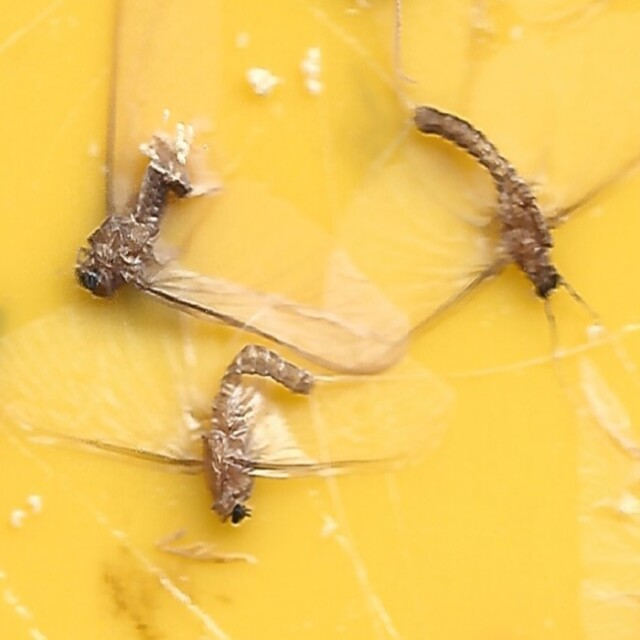Ephemeroptera: (412, 108, 565, 304), (201, 339, 311, 532), (75, 138, 188, 292)
